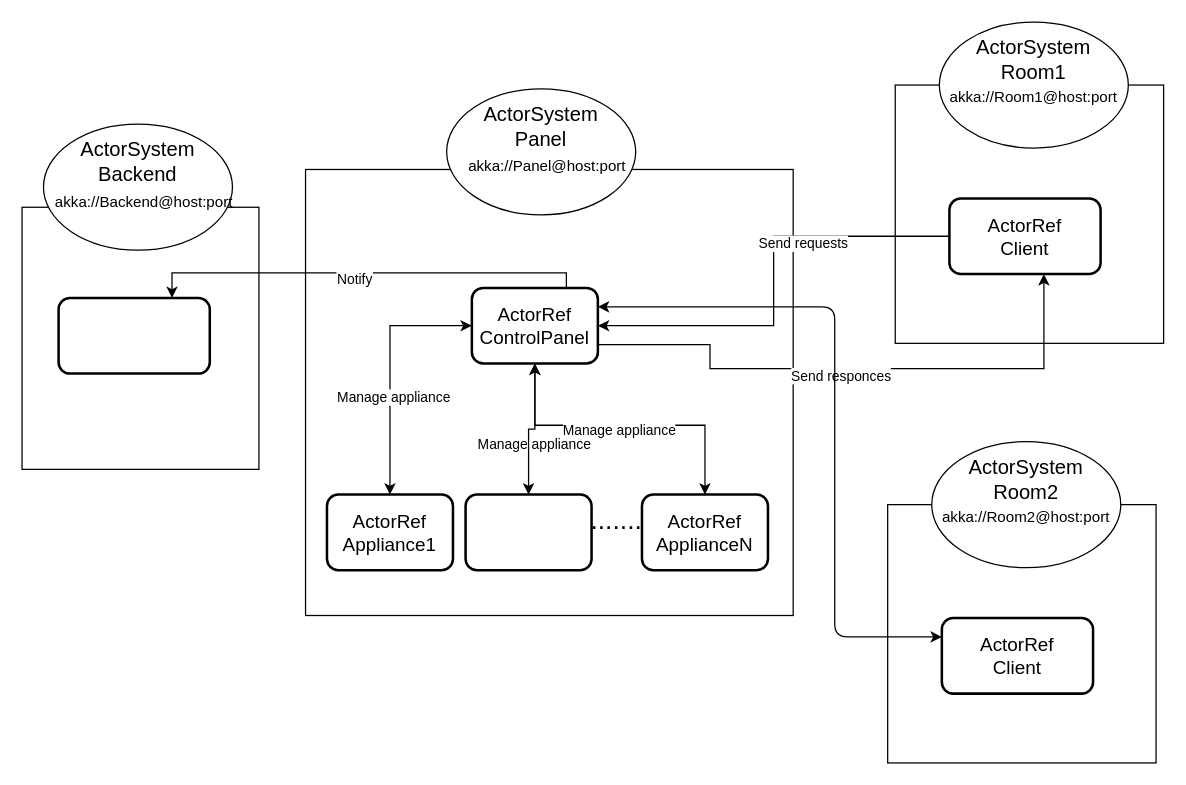
Some shapes in this 1186 by 785 pixel diagram are drawn without their labels. The centre of each missing label's shape, as x and y in pixels:
"ActorRef Appliance2" goes at point (528, 532).
"ActorRef Backend" goes at point (133, 335).
